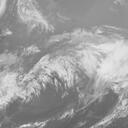cyclone: (35, 35, 106, 95)
